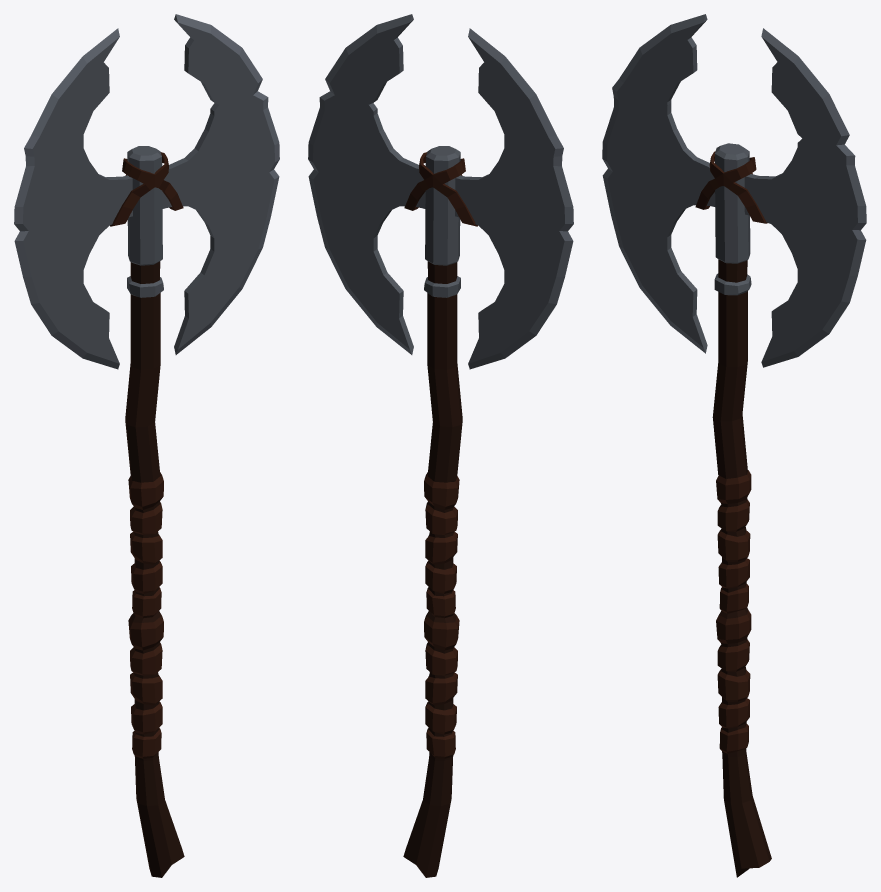
Rendered from Axe_Double.obj.
The picture shows the model from 3 angles, left to right: view 1: azimuth 30°, elevation 25°; view 2: azimuth 150°, elevation 25°; view 3: azimuth 330°, elevation 25°; orthographic projection.
Visible parts, largest first — view 1: Axe_Double_Cylinder.004; view 2: Axe_Double_Cylinder.004; view 3: Axe_Double_Cylinder.004.
Boxes of the visible parts, x1,y1,x2,y2 form: Axe_Double_Cylinder.004: (14,14,279,877); Axe_Double_Cylinder.004: (308,14,573,877); Axe_Double_Cylinder.004: (602,14,866,877).
Bounding box in the file's own units: 2.06 × 6.35 × 0.2609.
